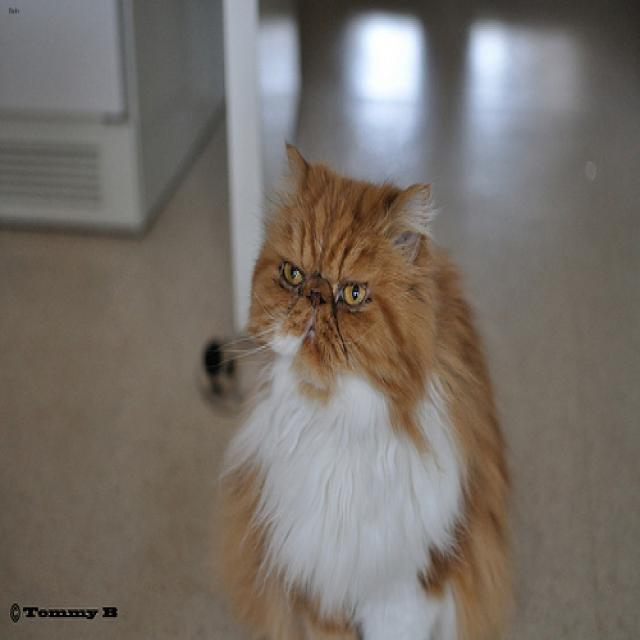Persian: (246, 137, 452, 425)
